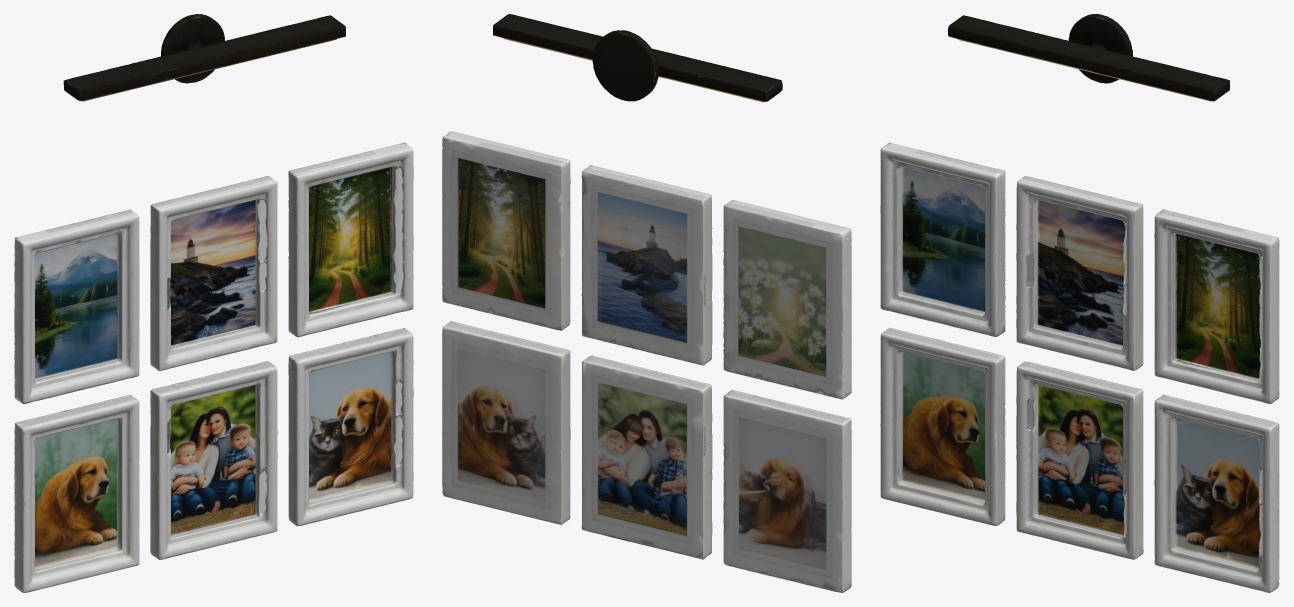
File: holcerceve.fbx
3 renders of one model, left to right at view 1: azimuth 30°, elevation 25°; view 2: azimuth 150°, elevation 25°; view 3: azimuth 330°, elevation 25°, orthographic. The views are drawn at different scales.
Parts seen in each view (by area): view 1: Mesh_0; view 2: Mesh_0; view 3: Mesh_0.
Part boxes in pixels (<box>): Mesh_0: <box>14,14,413,592</box>; Mesh_0: <box>442,14,851,592</box>; Mesh_0: <box>880,14,1279,592</box>.
Size of the model in its own units: 153 by 191 by 18.74.
Materials: 1 (1 with a texture image).
